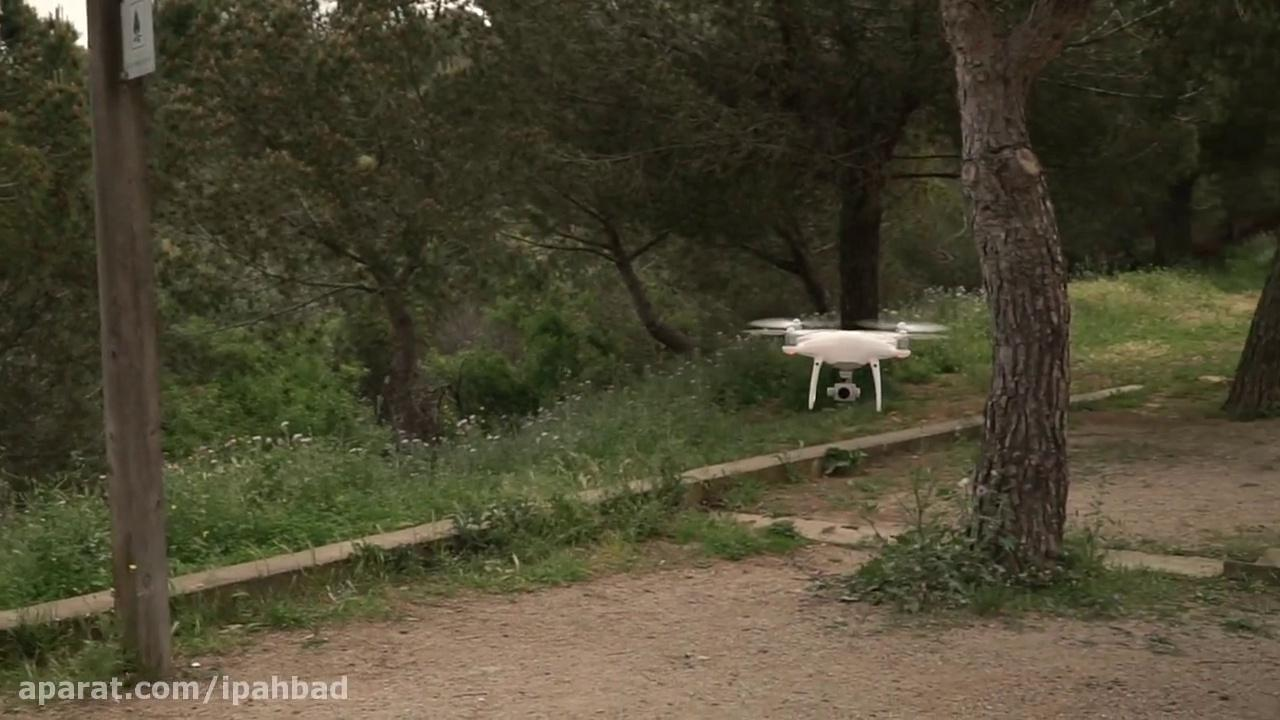drone: (739, 311, 951, 412)
